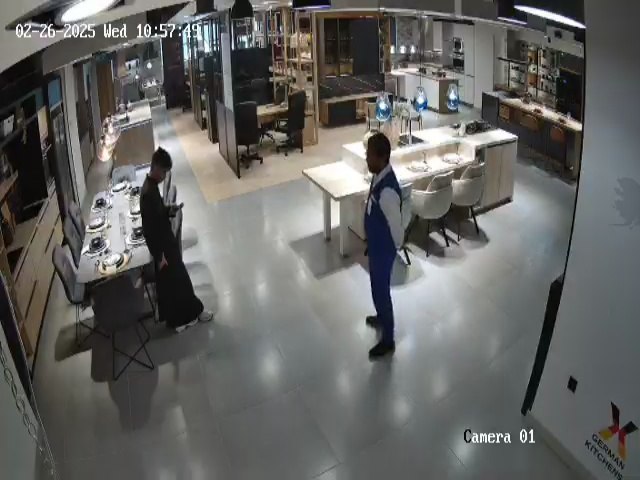employee: (363, 132, 406, 359)
male: (140, 147, 214, 334)
